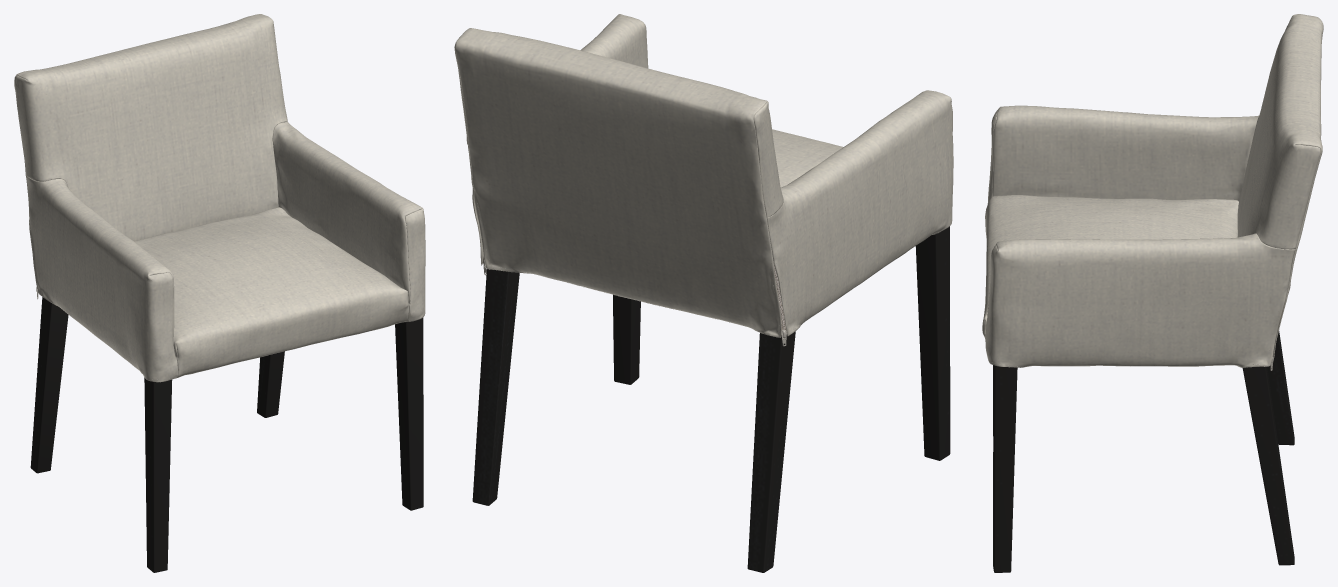
File: marenas_krzeso_z_podokietnikami_79514389.glb
The picture shows the model from 3 angles, left to right: view 1: azimuth 30°, elevation 25°; view 2: azimuth 150°, elevation 25°; view 3: azimuth 270°, elevation 25°; orthographic projection. The views are drawn at different scales.
Parts seen in each view (by area): view 1: marenas_krzeso_z_podokietnikami_79514389; view 2: marenas_krzeso_z_podokietnikami_79514389; view 3: marenas_krzeso_z_podokietnikami_79514389.
Part boxes in pixels (bbox=[...]): marenas_krzeso_z_podokietnikami_79514389: bbox=[14, 14, 425, 572]; marenas_krzeso_z_podokietnikami_79514389: bbox=[454, 14, 953, 572]; marenas_krzeso_z_podokietnikami_79514389: bbox=[982, 14, 1323, 572].
Bounding box in the file's own units: 0.6078 × 0.8136 × 0.5933.
Materials: 1 (1 with a texture image).
